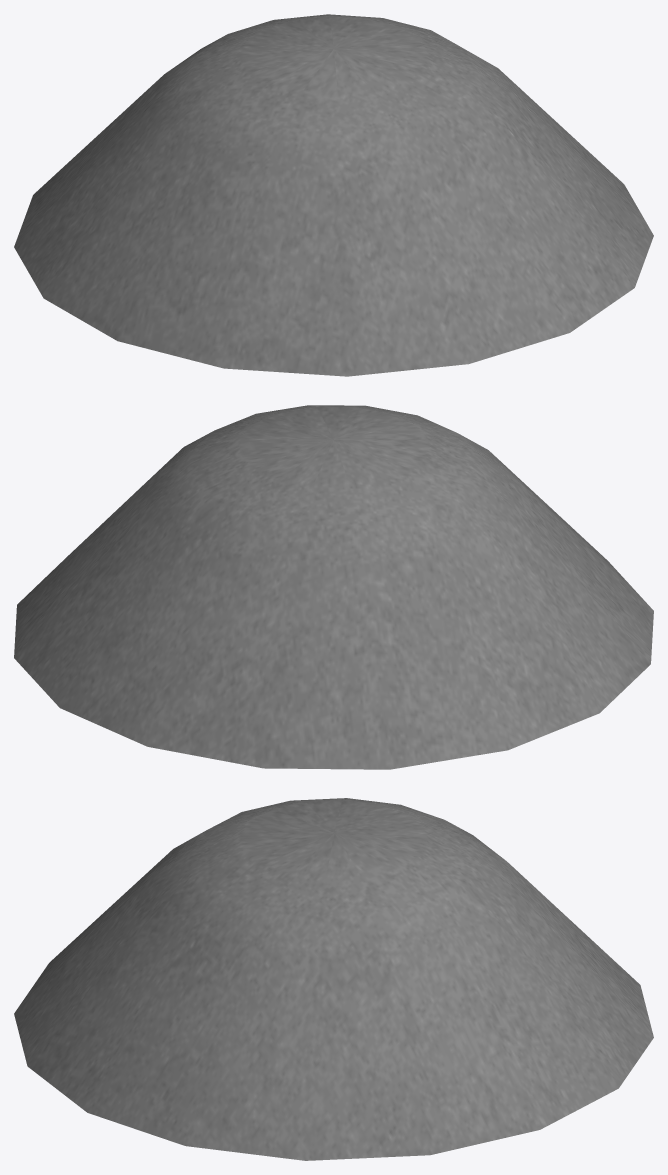
The model's file is PileOfSanf.fbx.
3 views of the same model, one above another, from view 1: azimuth 30°, elevation 25°; view 2: azimuth 150°, elevation 25°; view 3: azimuth 270°, elevation 25° (orthographic).
Parts seen in each view (by area): view 1: PileOfSanf; view 2: PileOfSanf; view 3: PileOfSanf.
Part boxes in pixels (bbox=[...]): PileOfSanf: bbox=[14, 14, 653, 376]; PileOfSanf: bbox=[14, 405, 653, 769]; PileOfSanf: bbox=[14, 798, 653, 1160].
Size of the model in its own units: 427 by 142 by 427.
